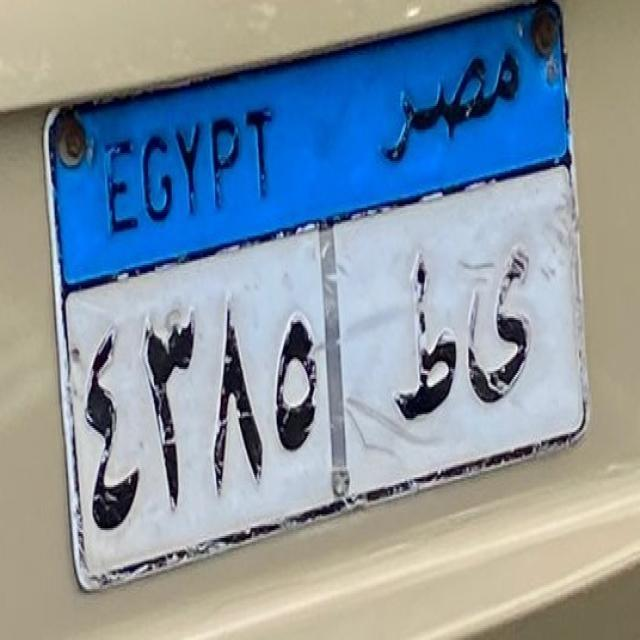3: (131, 306, 212, 518)
4: (70, 316, 150, 547)
5: (264, 304, 330, 468)
8: (207, 293, 274, 512)
Taa: (376, 252, 472, 440)
Yeeh: (458, 238, 554, 422)
